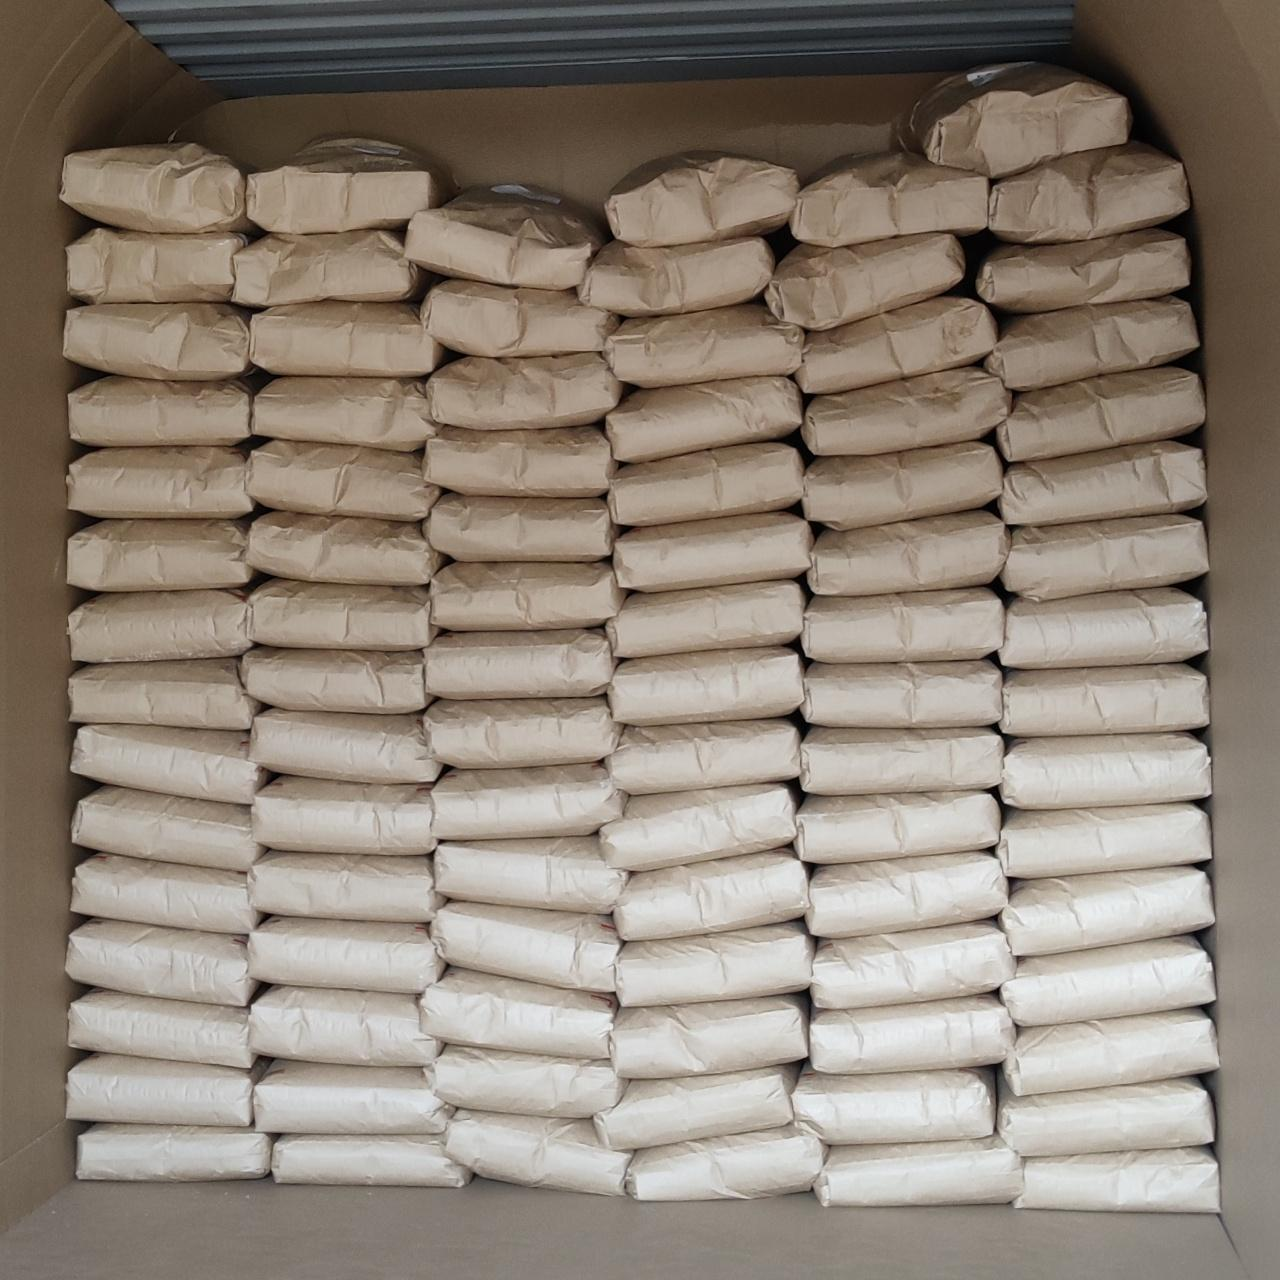sack: (892, 62, 1131, 178), (408, 186, 604, 286), (246, 138, 447, 234), (789, 151, 989, 247), (986, 300, 1198, 390), (998, 368, 1204, 460), (604, 151, 799, 247), (798, 296, 996, 390), (990, 144, 1186, 238), (1002, 936, 1214, 1022), (1002, 868, 1212, 954), (768, 234, 962, 326), (1004, 1010, 1216, 1094), (804, 368, 1010, 454), (59, 143, 255, 233), (812, 922, 1014, 1006), (978, 230, 1188, 310), (1002, 516, 1206, 598), (1000, 442, 1204, 524), (616, 850, 806, 938), (602, 784, 796, 870), (422, 968, 614, 1054), (596, 1066, 796, 1148), (432, 902, 618, 990), (804, 442, 998, 526), (998, 1078, 1212, 1154), (808, 854, 1006, 934), (608, 378, 800, 460), (810, 512, 1006, 592), (606, 304, 802, 384), (68, 920, 254, 1004), (618, 924, 812, 1004), (612, 996, 806, 1076), (1002, 588, 1206, 664), (810, 994, 1014, 1070), (446, 1110, 630, 1194), (74, 788, 262, 870), (610, 444, 802, 524), (998, 804, 1210, 876), (1000, 734, 1210, 806), (72, 854, 260, 934), (616, 514, 812, 590), (72, 726, 268, 802), (794, 1068, 994, 1142), (610, 648, 802, 724), (424, 280, 616, 356), (580, 238, 772, 314), (248, 442, 438, 518), (804, 588, 1004, 660), (428, 354, 622, 428), (1002, 664, 1206, 734), (236, 232, 428, 306), (252, 776, 434, 854), (796, 792, 998, 862), (608, 582, 804, 654), (626, 1126, 822, 1198), (434, 764, 624, 838), (436, 836, 626, 910), (70, 990, 254, 1066), (256, 1060, 450, 1132), (250, 918, 444, 990), (250, 988, 438, 1062), (816, 1136, 1020, 1204), (428, 1046, 622, 1116), (252, 302, 440, 374), (246, 512, 438, 582), (252, 710, 438, 782), (608, 720, 798, 790), (66, 304, 250, 376), (426, 698, 620, 766), (68, 228, 246, 302), (1014, 1148, 1218, 1212), (68, 1054, 254, 1124), (802, 660, 998, 726), (254, 378, 432, 450), (426, 630, 614, 698), (426, 426, 614, 494), (70, 520, 252, 590), (430, 562, 622, 628), (250, 852, 442, 918), (68, 448, 254, 516), (70, 590, 250, 660), (70, 660, 260, 726), (800, 728, 1002, 790), (248, 580, 436, 646), (70, 376, 252, 444), (426, 494, 616, 558), (242, 648, 428, 710), (78, 1124, 270, 1178), (272, 1136, 470, 1184)
